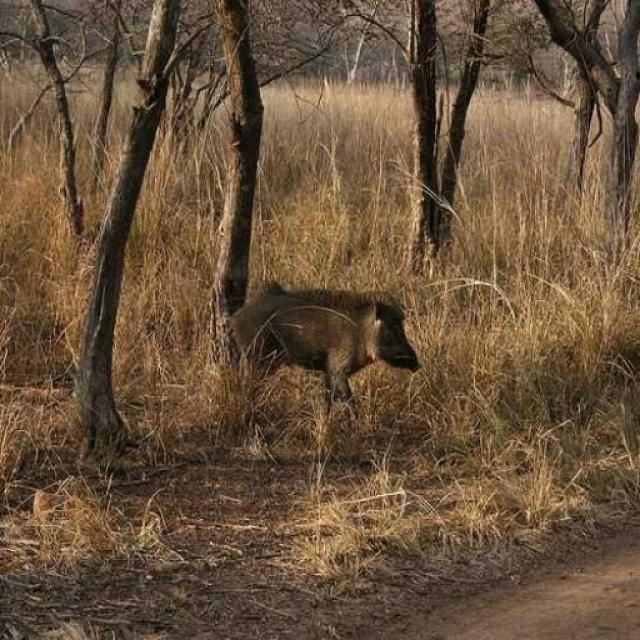pig: (202, 246, 429, 425)
